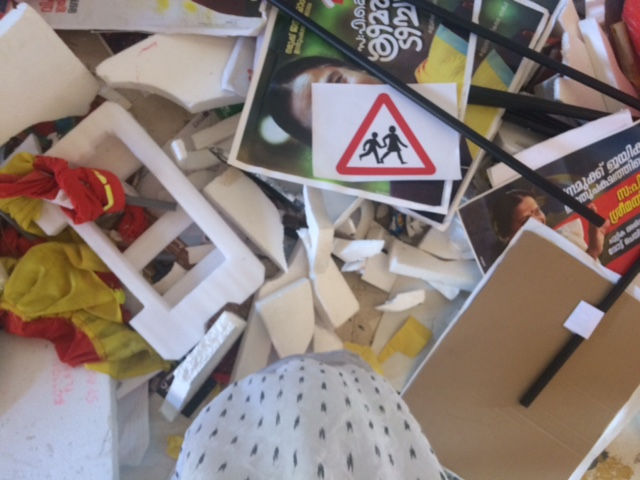sign: (336, 92, 437, 175)
